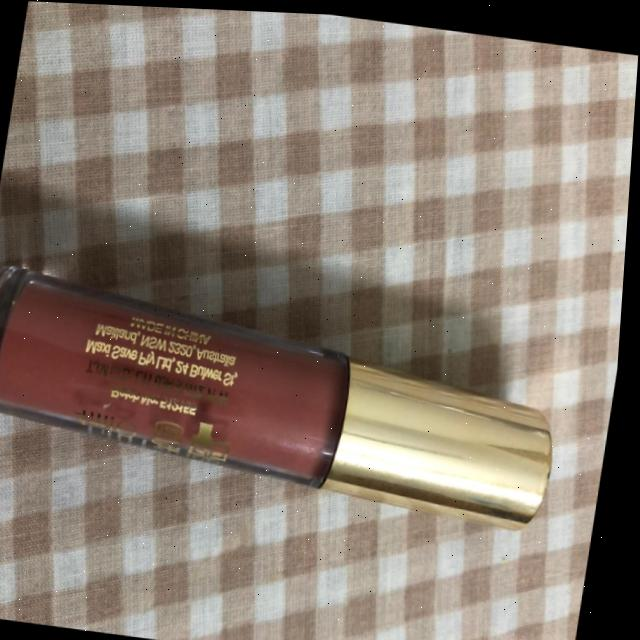lip gloss: (0, 253, 584, 518)
